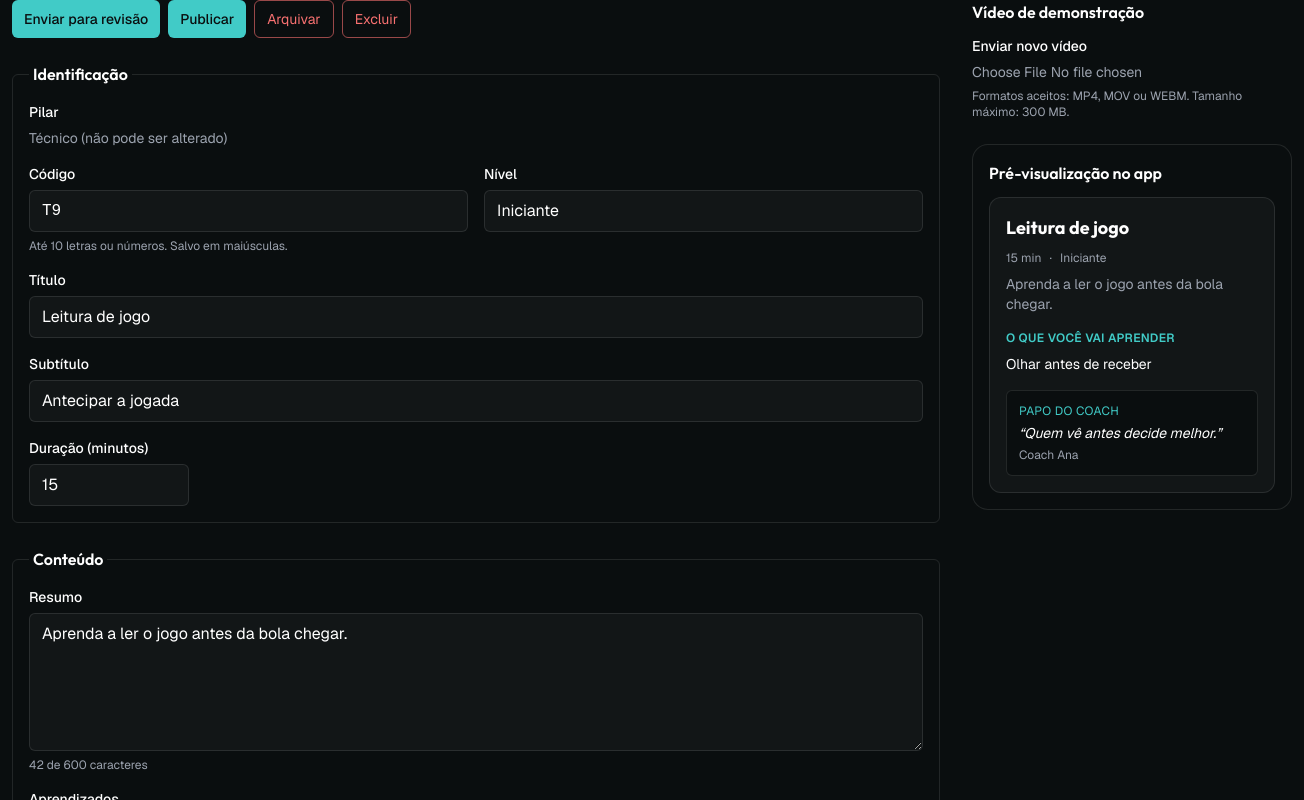
it: TrainingEditor: alterações não salvas › editar um campo desabilita as ações de status e mostra o aviso; salvar reabilita
Expected: the button "Enviar para revisão" is enabled, [12,0,160,38]
Expected: the button "Publicar" is enabled, [168,0,246,38]
Step 1. Type " avançada" into the field labelled "Título" → (476, 317), box [29,296,923,338]
(page scrolled)
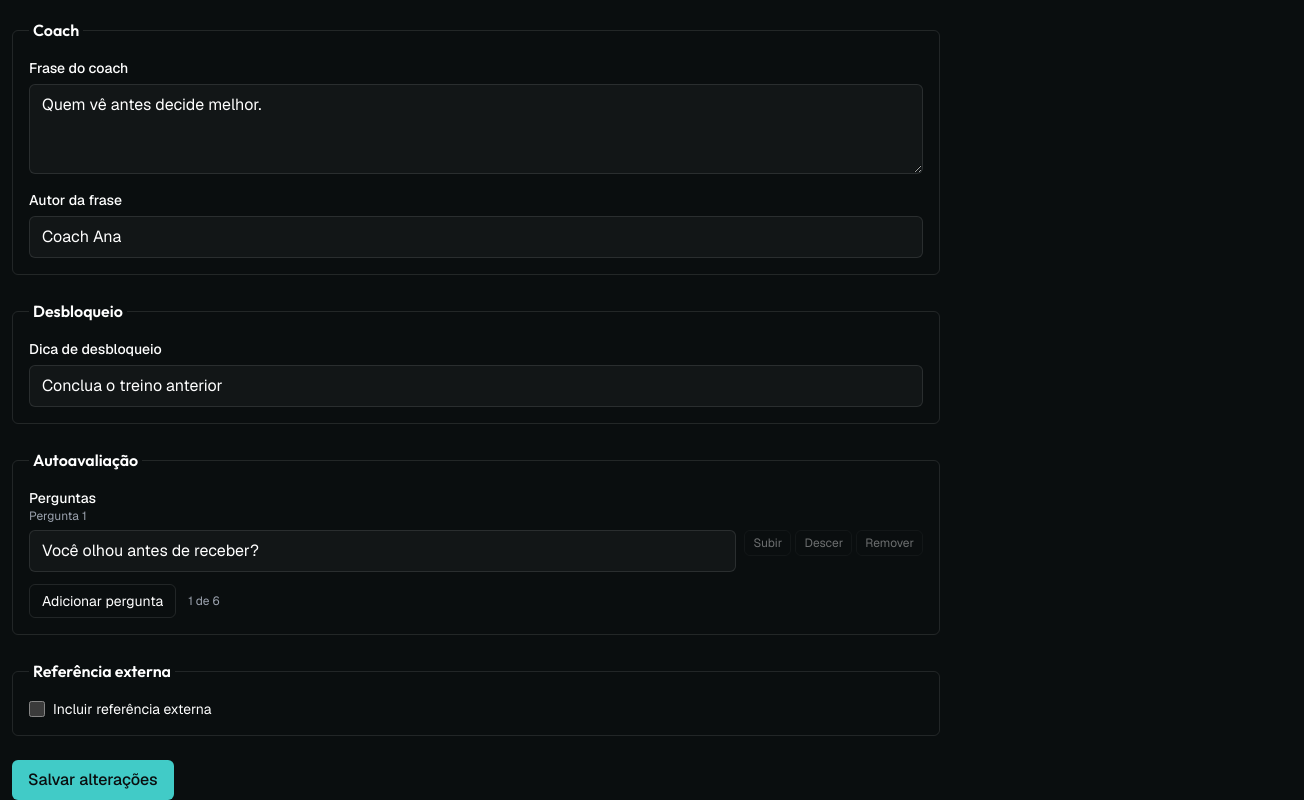
Step 2. Click the button "Salvar alterações" → (93, 780), box [12,760,174,799]
(page scrolled)
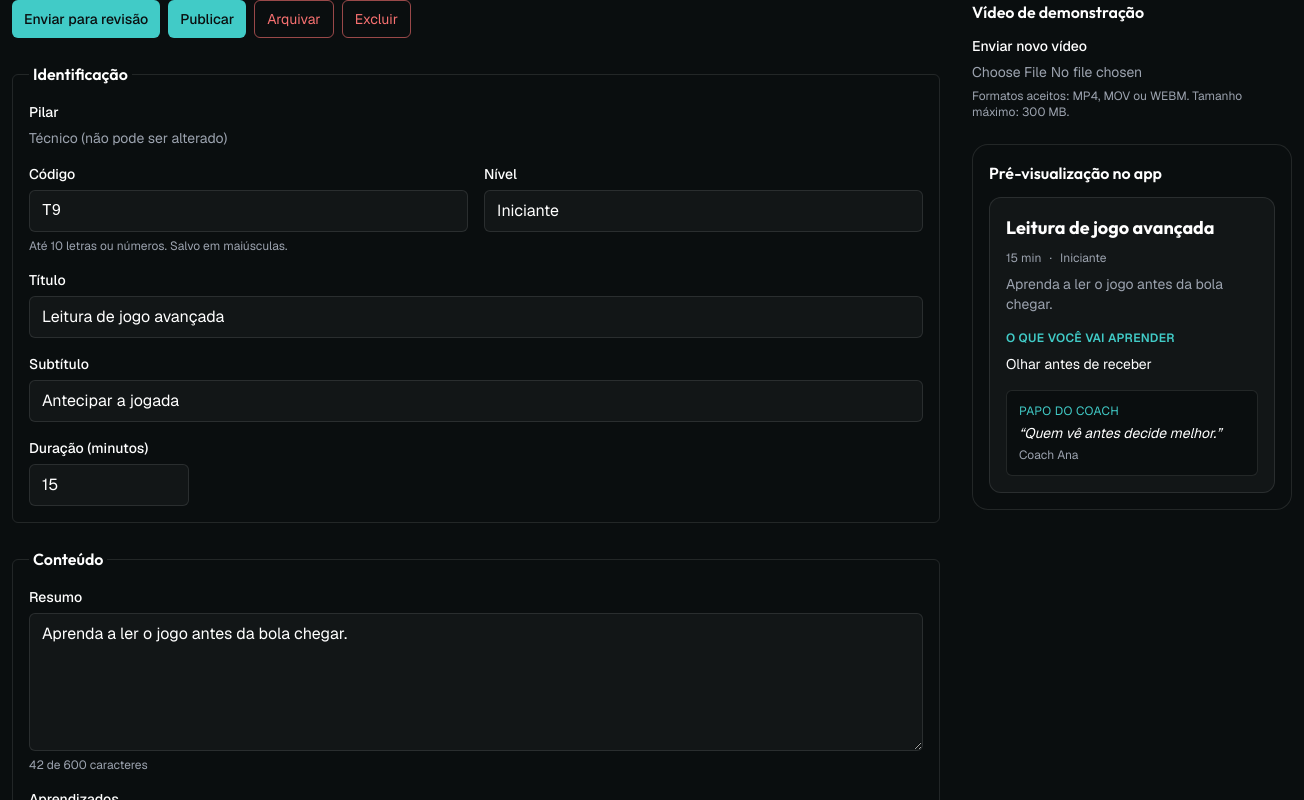
Now the button "Enviar para revisão" is enabled, box [12,0,160,38]
Now the button "Publicar" is enabled, box [168,0,246,38]
Now the button "Arquivar" is enabled, box [254,0,334,38]
